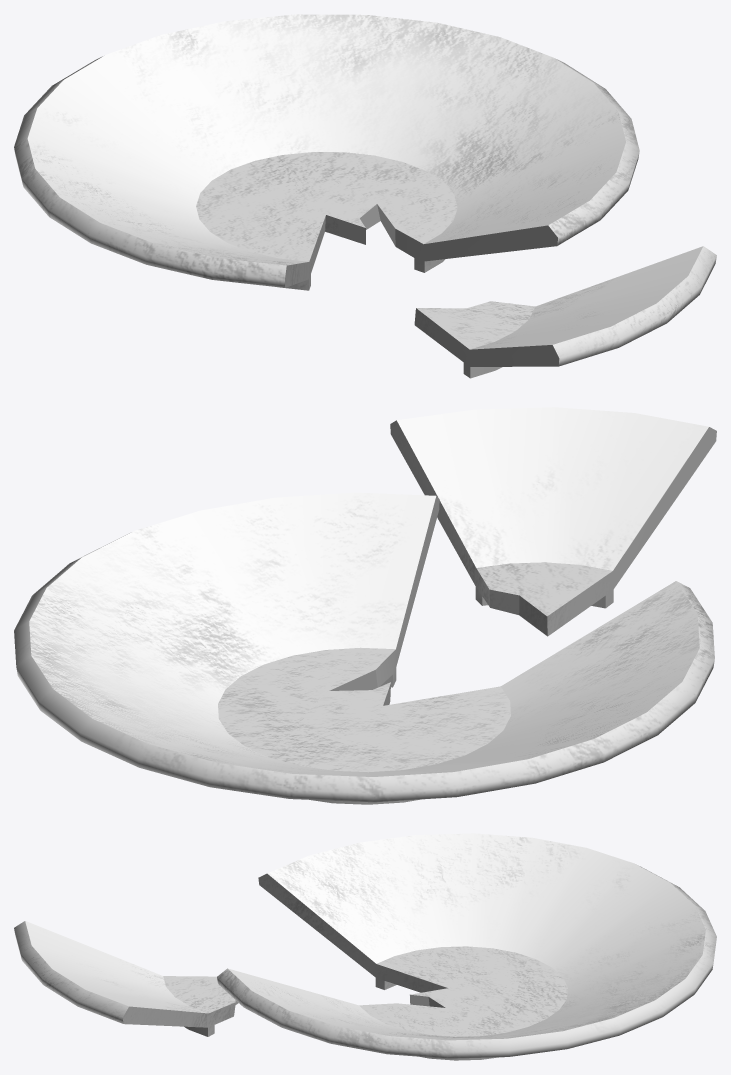
3 views of the same model, one above another, from view 1: azimuth 30°, elevation 25°; view 2: azimuth 150°, elevation 25°; view 3: azimuth 270°, elevation 25° (orthographic). The views are drawn at different scales.
Visible parts, largest first — view 1: 접시; view 2: 접시; view 3: 접시.
Part boxes in pixels (box(x1,y1,x2,y2)): 접시: box(14, 14, 716, 378); 접시: box(14, 407, 716, 804); 접시: box(14, 833, 716, 1060).
Bounding box in the file's own units: 254 × 42.81 × 348.
1 material, 1 textured.
